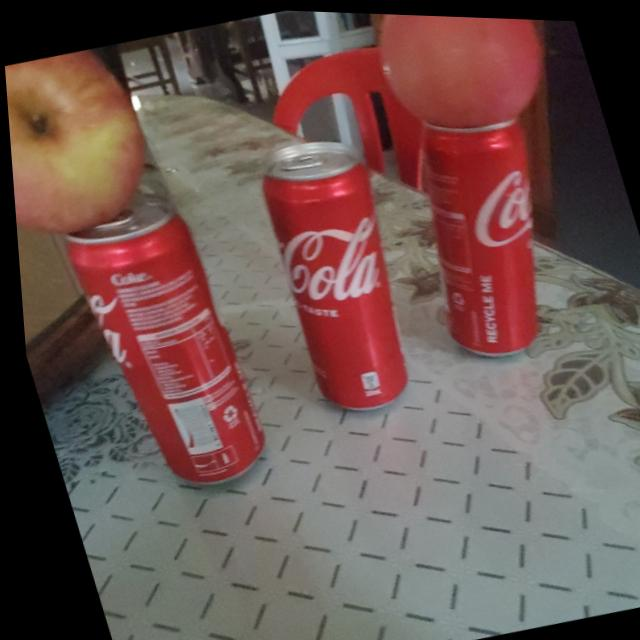apple: (2, 40, 160, 248), (366, 11, 563, 139)
coke: (55, 195, 268, 497), (380, 97, 579, 365), (243, 130, 427, 419)
